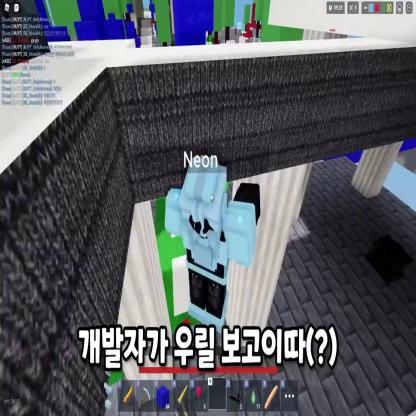Roblox-Avatar: (166, 156, 262, 336)
